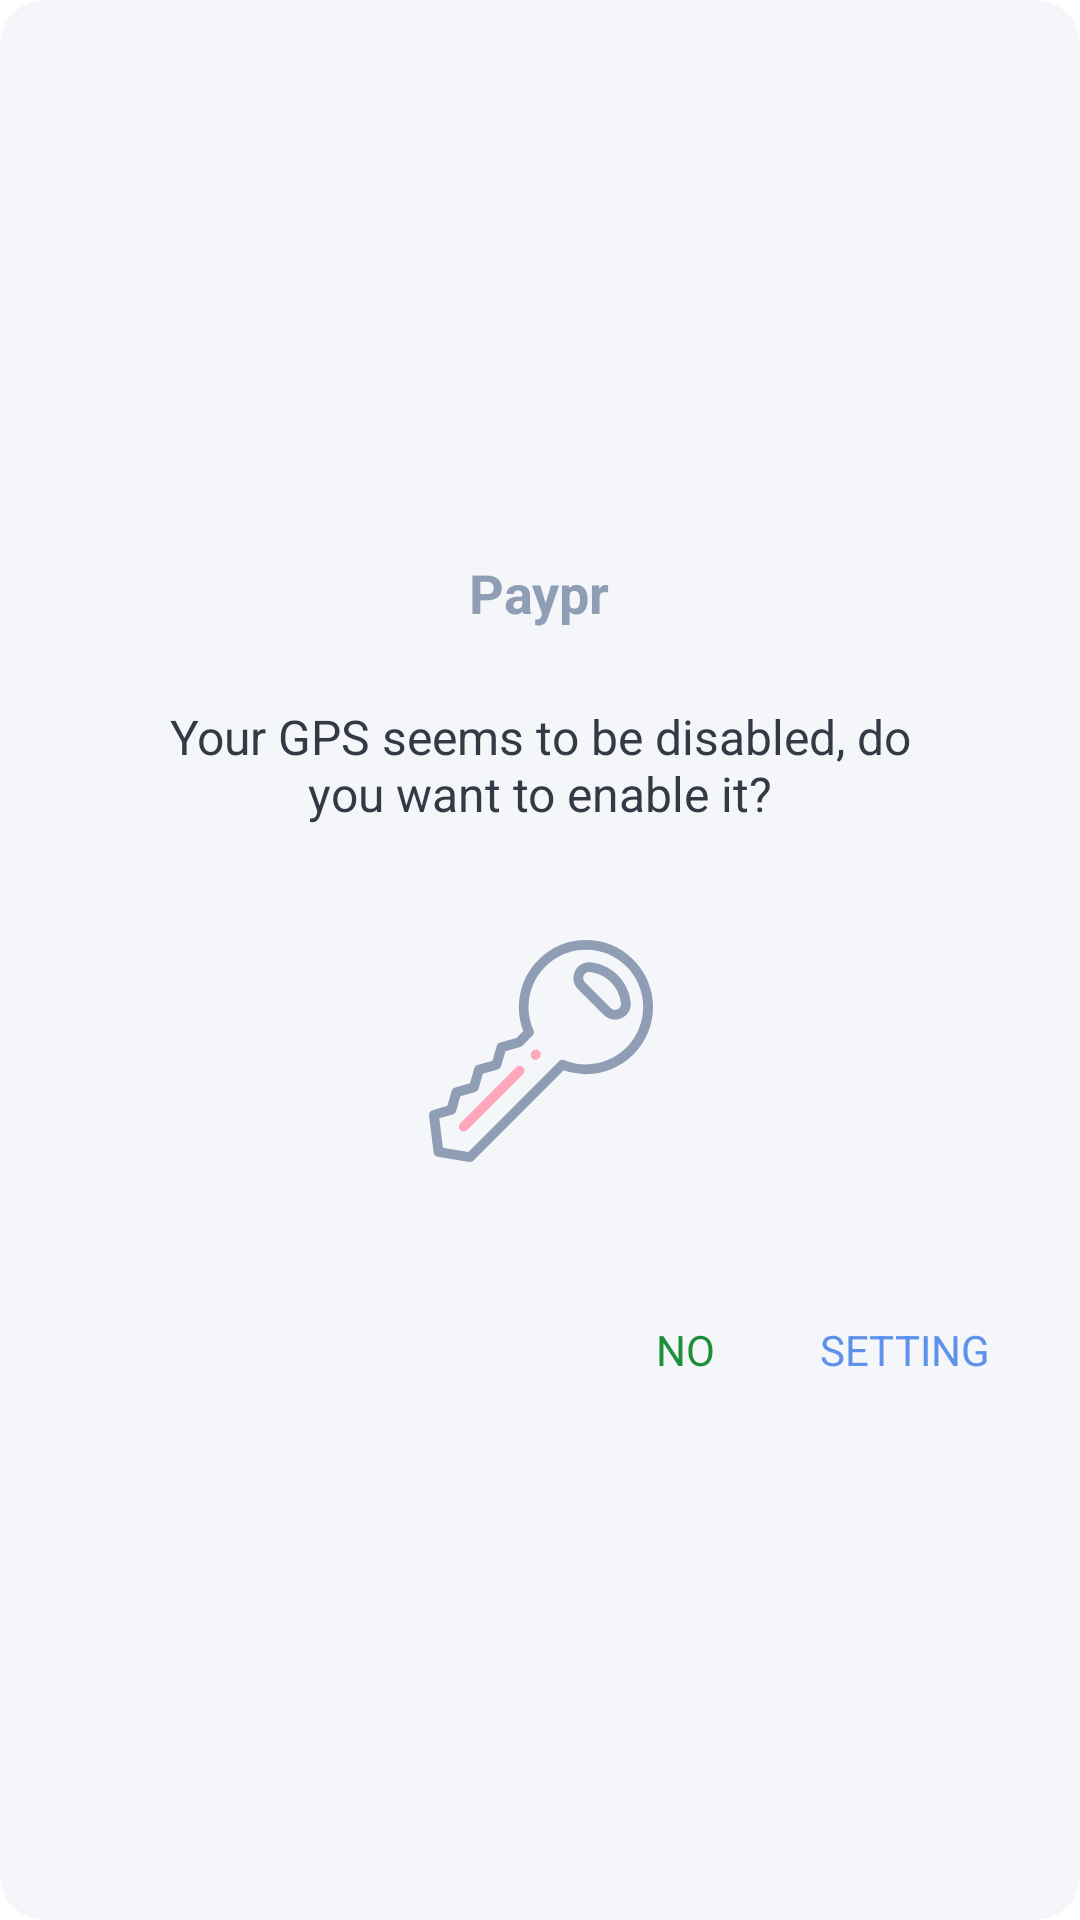

Screen size 1080x1920. Icon name, then its box in pixels as (x1, y1, x2, y2):
key: (429, 940, 653, 1162)
